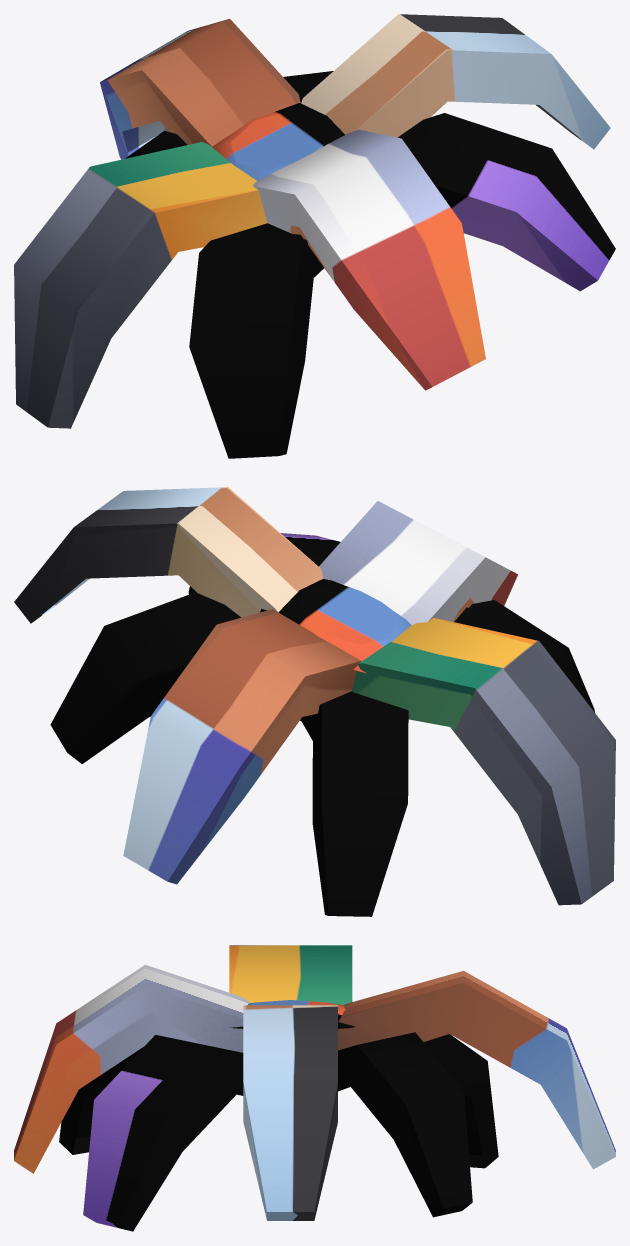
The model's file is SM_Palm_A.fbx.
The picture shows the model from 3 angles, top to bottom: view 1: azimuth 30°, elevation 25°; view 2: azimuth 150°, elevation 25°; view 3: azimuth 270°, elevation 25°; orthographic projection. The views are drawn at different scales.
Visible parts, largest first — view 1: SM_Palm_A; view 2: SM_Palm_A; view 3: SM_Palm_A.
Part boxes in pixels (x1,y1,x2,y2): SM_Palm_A: [14, 14, 615, 458]; SM_Palm_A: [14, 487, 615, 916]; SM_Palm_A: [14, 945, 615, 1231].
Bounding box in the file's own units: 62.13 × 30.91 × 59.54.
